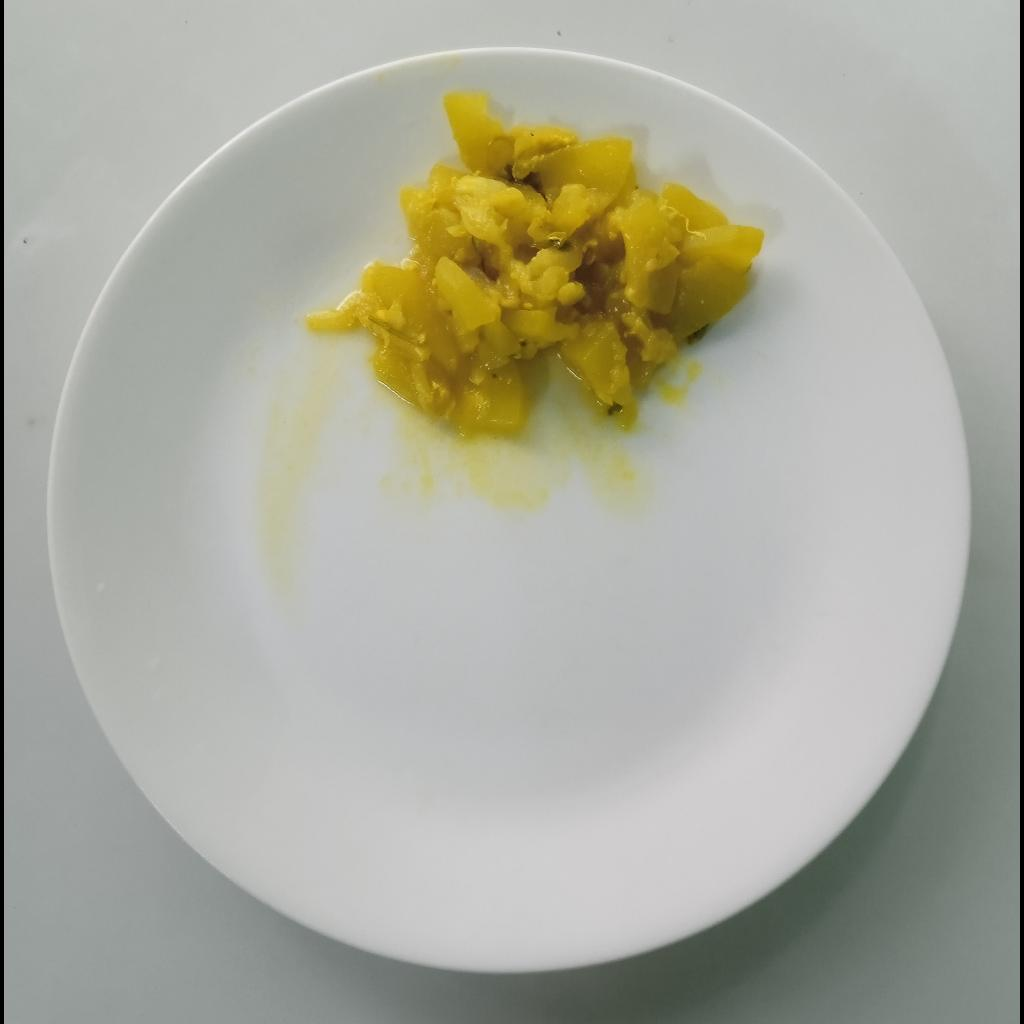kumra-vaji: (302, 89, 766, 434)
